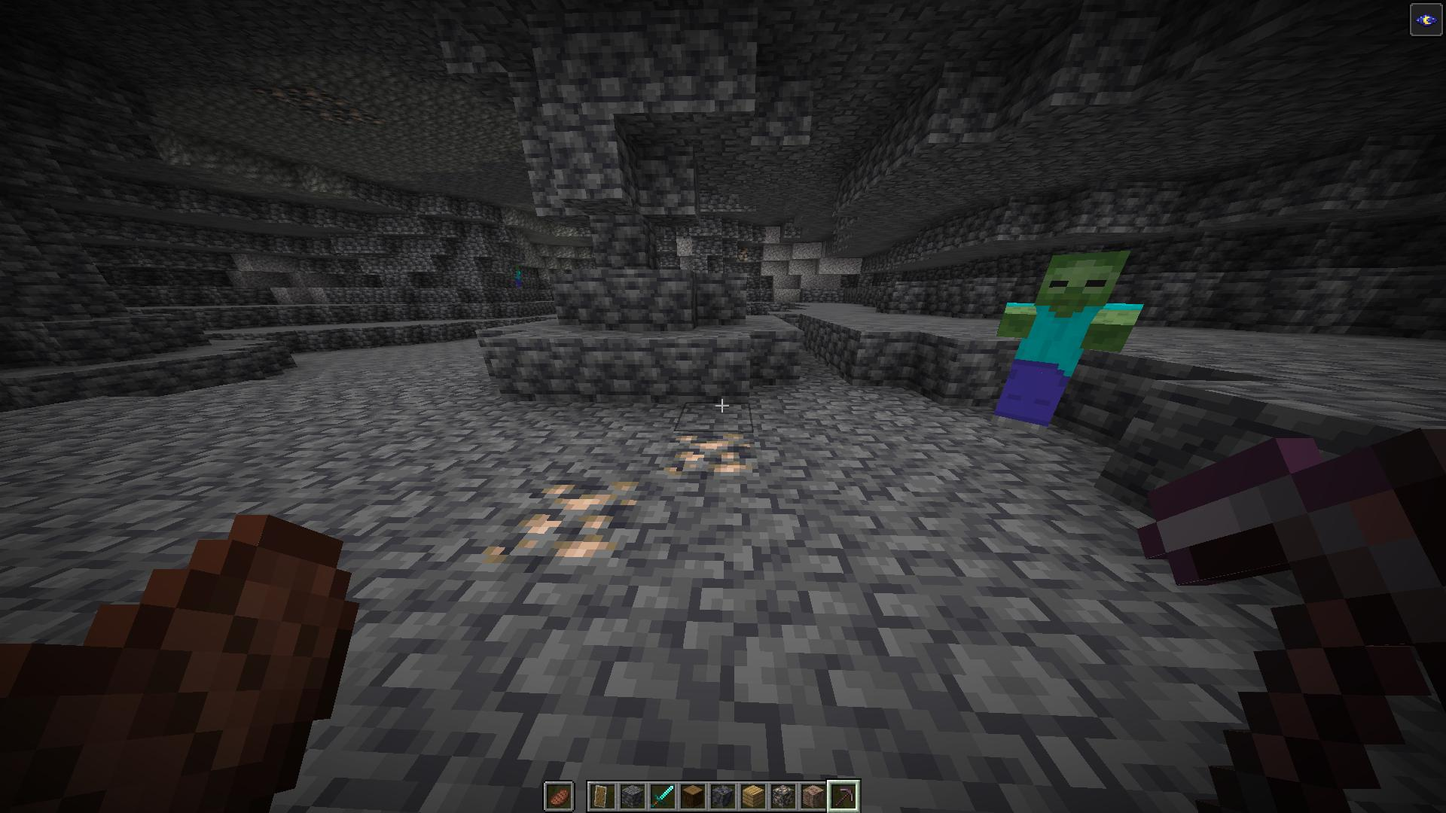iron ore: (496, 475, 646, 566), (662, 435, 758, 478), (738, 246, 751, 262)
